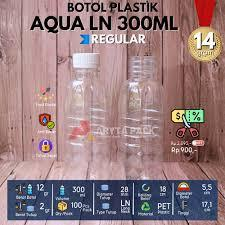BIODEGRADABLE: (120, 52, 172, 182), (63, 51, 116, 177)
